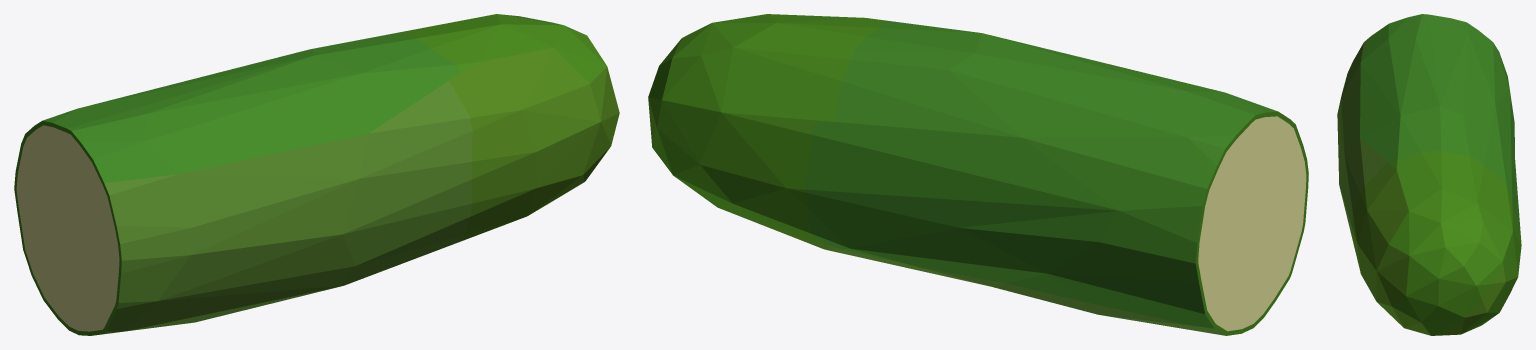
Rendered from cucumber-01.glb.
The picture shows the model from 3 angles, left to right: view 1: azimuth 30°, elevation 25°; view 2: azimuth 150°, elevation 25°; view 3: azimuth 270°, elevation 25°; orthographic projection. The views are drawn at different scales.
Parts seen in each view (by area): view 1: world; view 2: world; view 3: world.
Part boxes in pixels (x1=…): world: x1=14, y1=14, x2=619, y2=335; world: x1=648, y1=14, x2=1308, y2=335; world: x1=1337, y1=14, x2=1521, y2=335.
Size of the model in its own units: 0.1203 by 0.0453 by 0.0457.
1 material, 1 textured.
